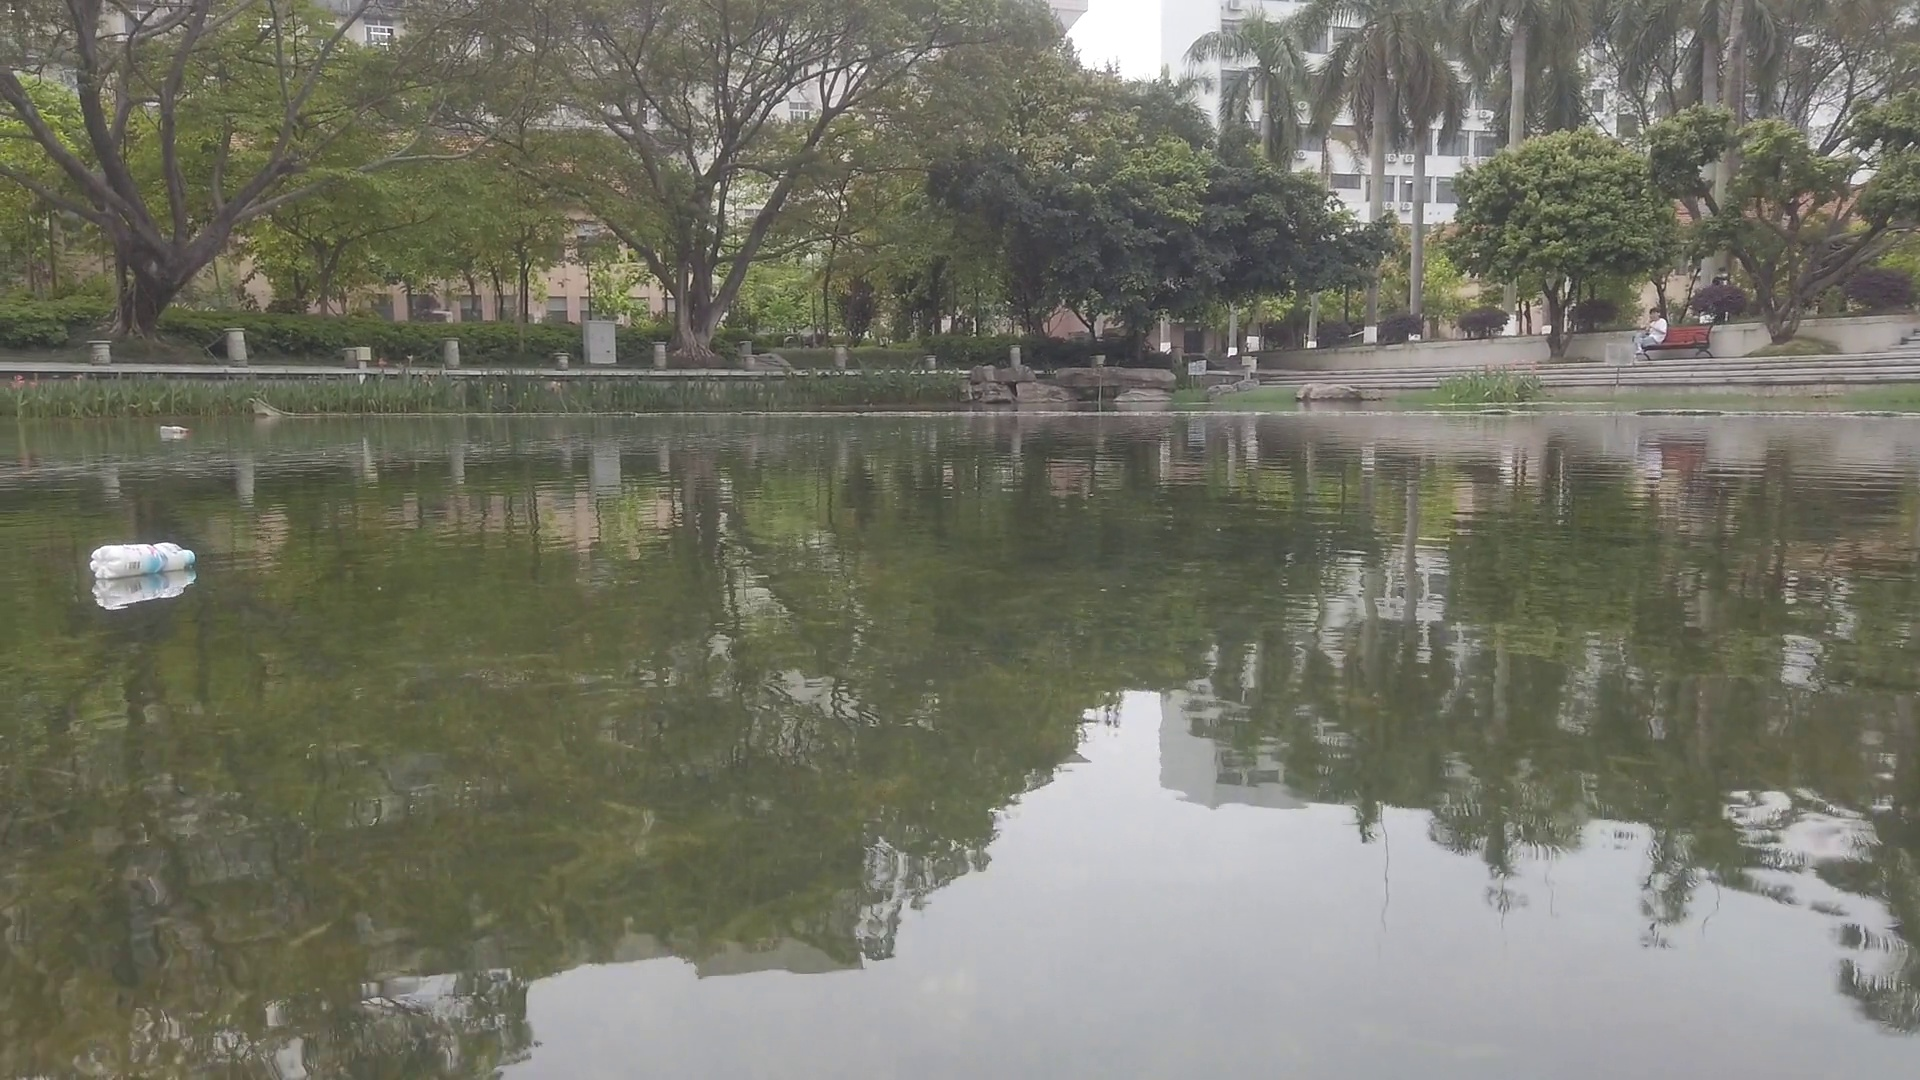bottle: (91, 541, 196, 582), (157, 421, 189, 436)
